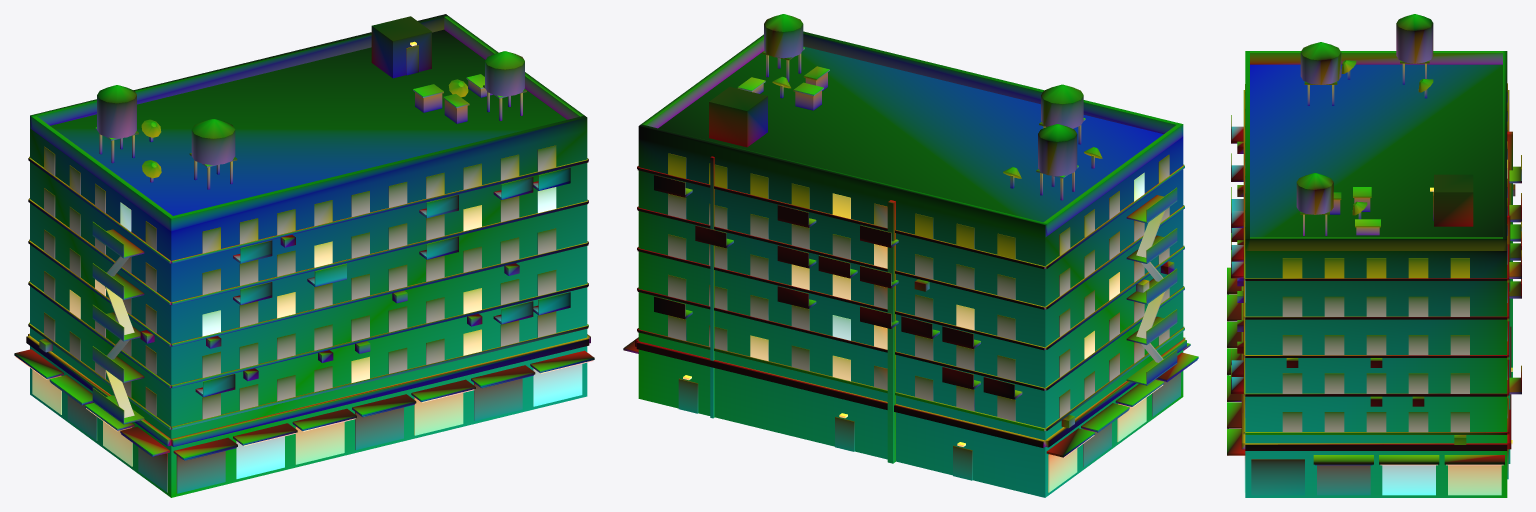
Rendered from Block_Housing.fbx.
3 views of the same model, side by side, from view 1: azimuth 30°, elevation 25°; view 2: azimuth 150°, elevation 25°; view 3: azimuth 270°, elevation 25° (orthographic). The views are drawn at different scales.
Parts seen in each view (by area): view 1: Block_Housing_LOD0; view 2: Block_Housing_LOD0; view 3: Block_Housing_LOD0.
Boxes of the visible parts, x1,y1,x2,y2 form: Block_Housing_LOD0: (14,14,594,497); Block_Housing_LOD0: (623,14,1198,497); Block_Housing_LOD0: (1227,14,1521,497).
Size of what is drawn, in the model's own units: 37.1 by 26.26 by 22.5.
